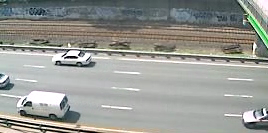car: (15, 89, 72, 123), (50, 48, 94, 69), (236, 105, 268, 129)
